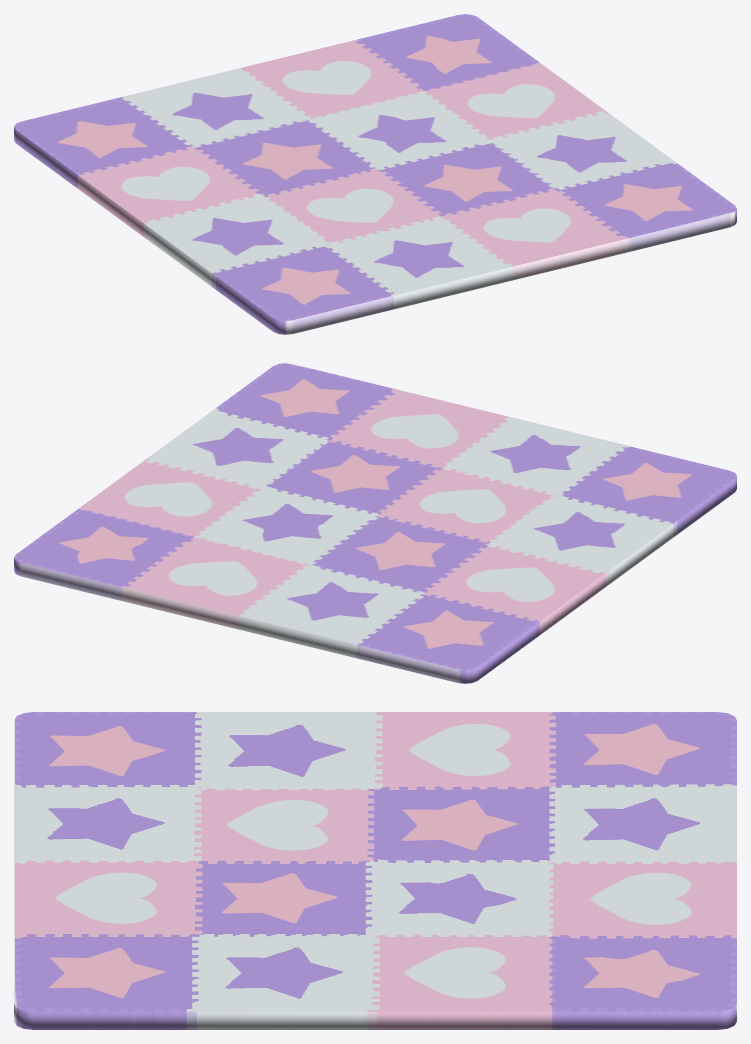
The model's file is Playroom_mat.fbx.
3 views of the same model, one above another, from view 1: azimuth 30°, elevation 25°; view 2: azimuth 150°, elevation 25°; view 3: azimuth 270°, elevation 25° (orthographic). The views are drawn at different scales.
Parts seen in each view (by area): view 1: Plane; view 2: Plane; view 3: Plane.
Boxes of the visible parts, x1,y1,x2,y2 form: Plane: [14, 14, 736, 334]; Plane: [14, 363, 736, 683]; Plane: [14, 712, 736, 1029].
Size of the model in its own units: 283 by 7.99 by 288.
